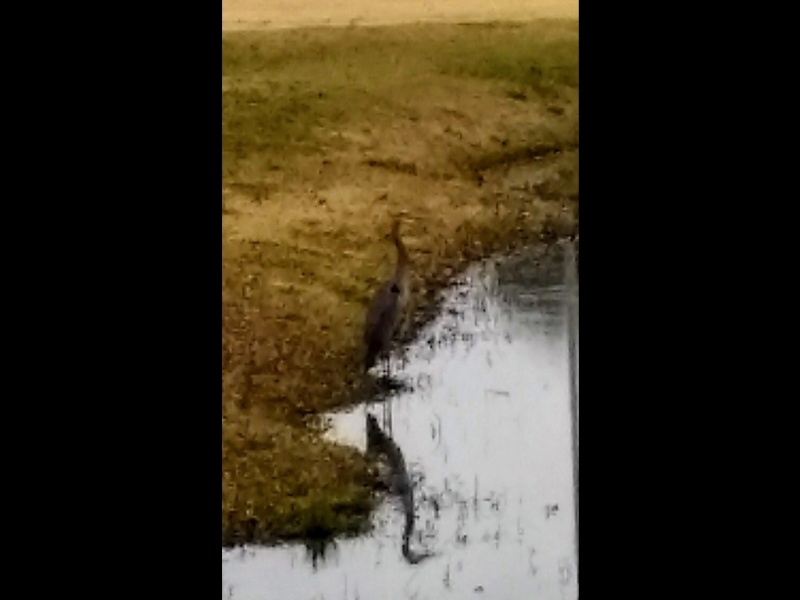heron: (362, 206, 429, 375)
